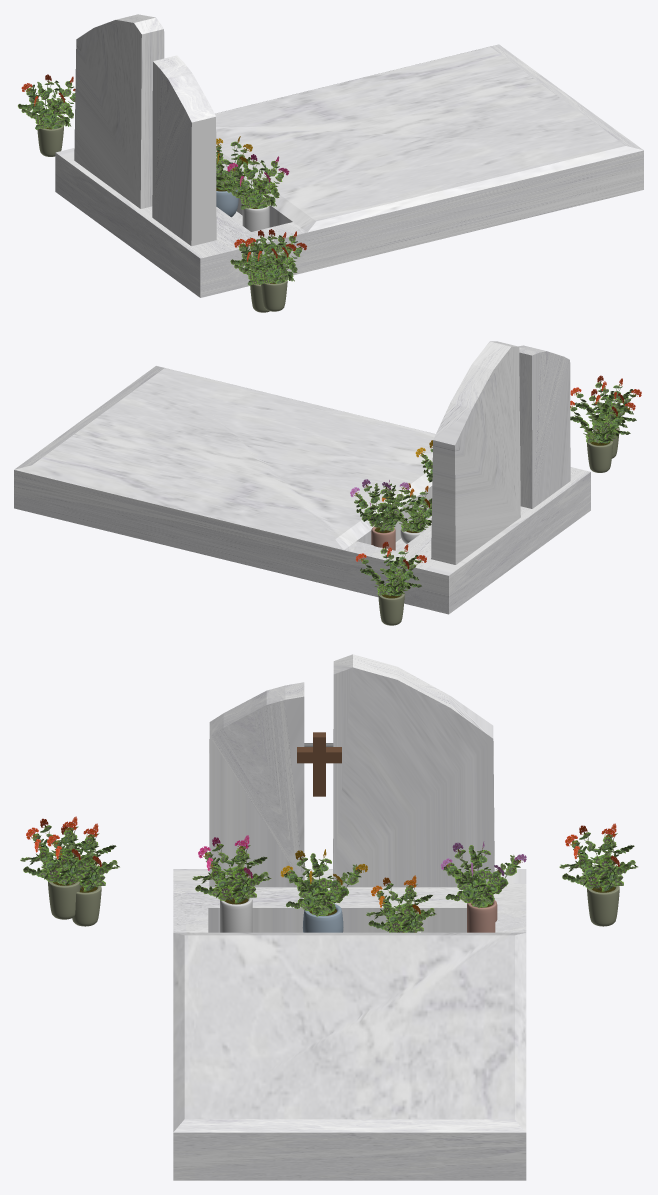
The model's file is lapida.glb.
3 views of the same model, one above another, from view 1: azimuth 30°, elevation 25°; view 2: azimuth 150°, elevation 25°; view 3: azimuth 270°, elevation 25° (orthographic). The views are drawn at different scales.
Parts seen in each view (by area): view 1: Cube, lapida, Geranium05_0, Geranium_02_7, Pots_3_3, Geranium_01_6, Pots_1_1, Pots_2_2; view 2: Cube, lapida, Geranium05_0, Geranium_03_8, Pots_3_3, Geranium_04_9, Pots_4_4; view 3: Cube, lapida, Geranium05_0, Pots_3_3, Geranium_03_8, Geranium_02_7, Geranium_01_6, Geranium_04_9, Cubo, Pots_1_1, Pots_2_2, Pots_4_4.
Boxes of the visible parts, x1,y1,x2,y2 form: Cube: [55, 44, 643, 297]; lapida: [74, 14, 216, 246]; Geranium05_0: [18, 74, 306, 285]; Geranium_02_7: [223, 154, 289, 209]; Pots_3_3: [37, 123, 287, 312]; Geranium_01_6: [216, 136, 255, 190]; Pots_1_1: [242, 202, 269, 231]; Pots_2_2: [216, 187, 238, 217]; Cube: [14, 366, 590, 614]; lapida: [431, 341, 570, 564]; Geranium05_0: [355, 375, 641, 596]; Geranium_03_8: [350, 479, 410, 532]; Pots_3_3: [378, 427, 619, 625]; Geranium_04_9: [382, 483, 431, 531]; Pots_4_4: [371, 526, 395, 550]; Cube: [173, 869, 526, 1180]; lapida: [209, 654, 494, 887]; Geranium05_0: [20, 816, 637, 891]; Pots_3_3: [48, 881, 619, 926]; Geranium_03_8: [440, 841, 526, 908]; Geranium_02_7: [192, 835, 271, 903]; Geranium_01_6: [280, 849, 367, 916]; Geranium_04_9: [366, 875, 436, 932]; Cubo: [297, 732, 341, 796]; Pots_1_1: [220, 897, 252, 932]; Pots_2_2: [302, 903, 343, 932]; Pots_4_4: [467, 900, 497, 932].
Bounding box in the file's own units: 1.08 × 0.5008 × 1.07.
10 materials, 8 textured.
